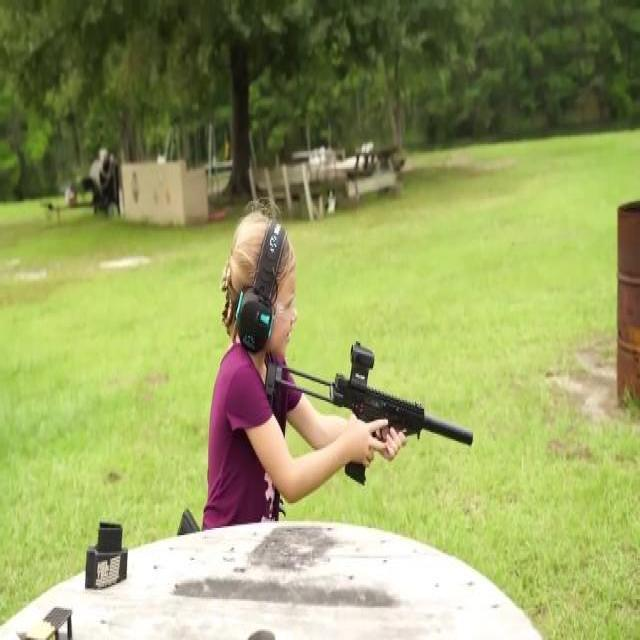pistol: (266, 349, 476, 479)
